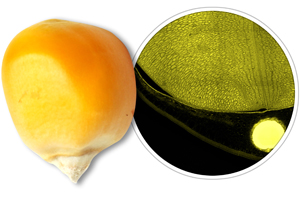corn: (0, 17, 138, 189)
